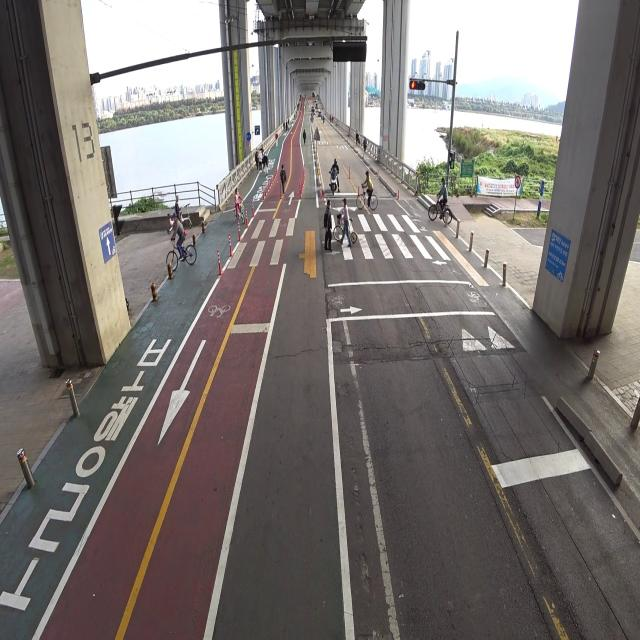Motorcycle: (328, 157, 340, 195)
